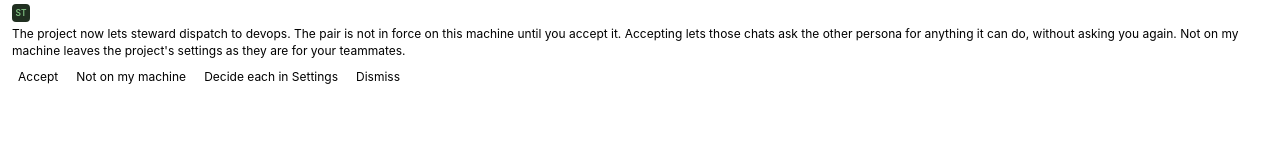
Scenario: the Notice that a teammate's dispatch grant arrived › says where the list changed before the answer came, and shows the list as it is
Click the button "Accept".
click(38, 78)  # box [12, 67, 64, 88]
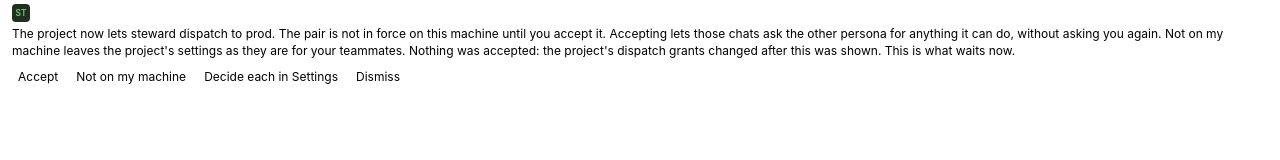
Result: the message named "The project's dispatch grants changed" shows "Nothing was accepted: the project's dispatch grants changed after this was shown. This is what waits now." at [406, 43, 1015, 58]
Result: the message named "The project's dispatch grants changed" shows "The project now lets steward dispatch to prod." at [12, 26, 275, 41]
Result: the message named "The project's dispatch grants changed" no longer shows "steward dispatch to devops" at [0, 0, 1279, 92]
